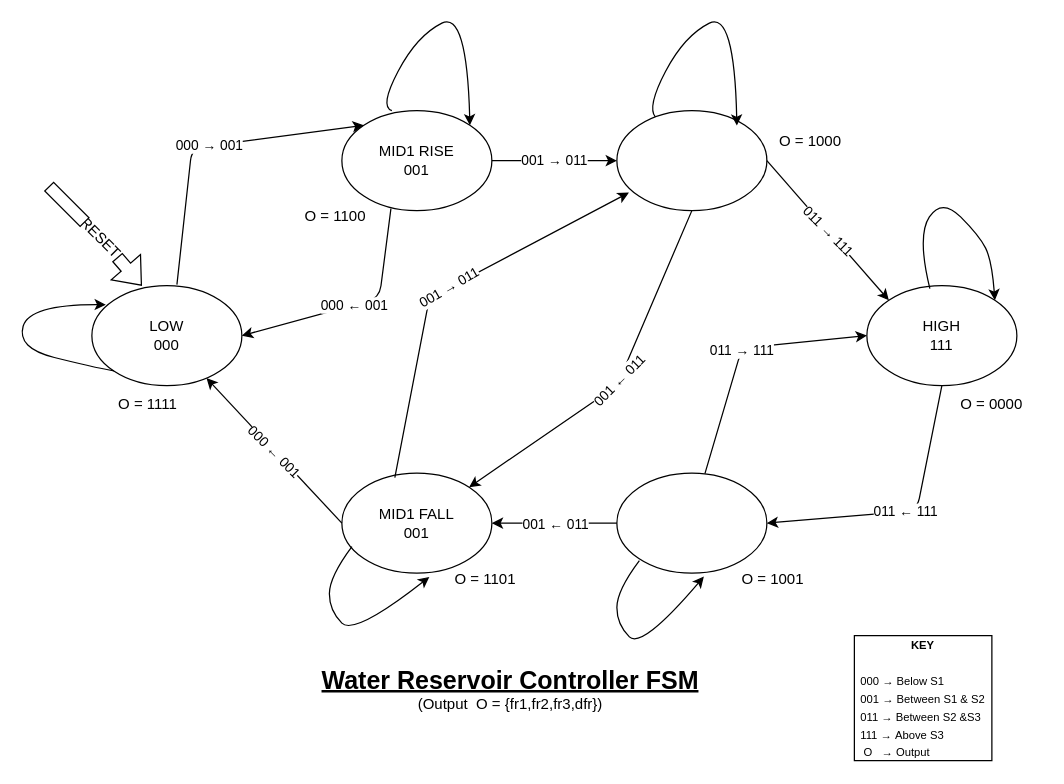
The diagram is 1064 pixels wide and 784 high, and some of its shapes have lost their labels. Each missing label, with the box of its shape:
MID2 FALL 011: (616, 472, 767, 573)
MID2 RISE 011: (616, 109, 767, 211)
